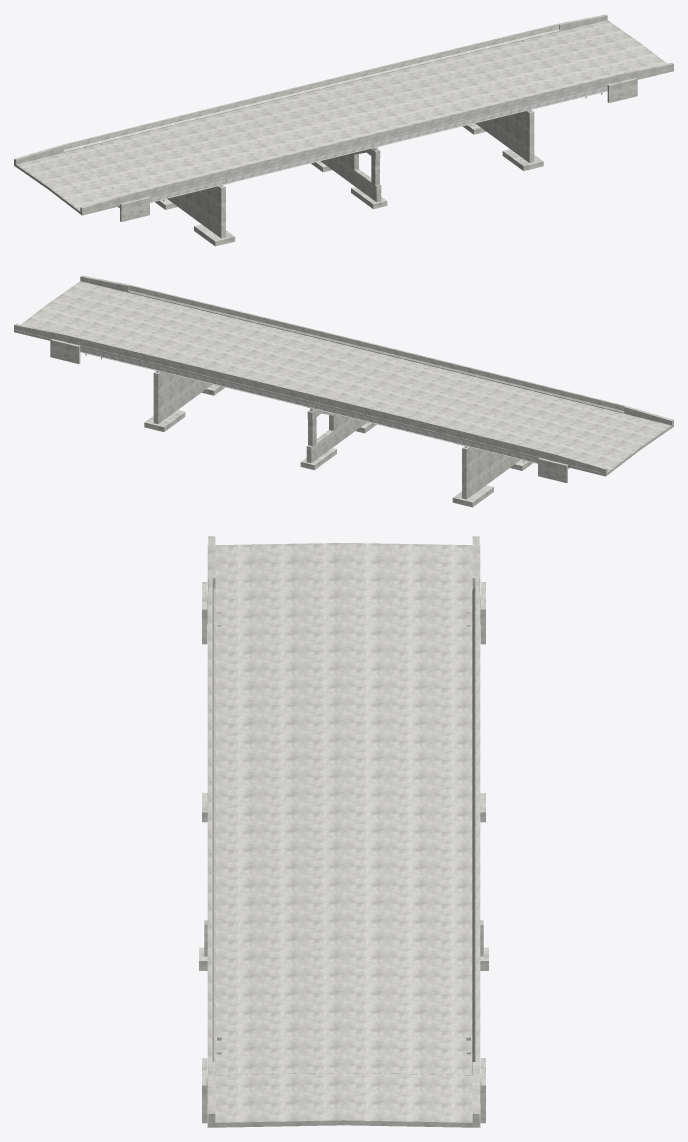
File: model_render.glb
The picture shows the model from 3 angles, top to bottom: view 1: azimuth 30°, elevation 25°; view 2: azimuth 150°, elevation 25°; view 3: azimuth 270°, elevation 25°; orthographic projection. The views are drawn at different scales.
Visible parts, largest first — view 1: overlay, approach_-1, approach_1, pier_4_widening, pier_2_widening, deck, rail_1_1, rail_1_0, rail_1_2, rail_1_3, rail_-1_3, rail_-1_0 (+18 smaller); view 2: overlay, approach_-1, approach_1, pier_4_widening, pier_2_widening, deck, rail_-1_1, rail_-1_0, rail_-1_2, rail_-1_3, rail_1_3, rail_1_0 (+18 smaller); view 3: overlay, approach_1, approach_-1, deck, rail_1_2, rail_-1_2, rail_1_1, rail_-1_1, rail_1_0, rail_-1_0, rail_1_3, rail_-1_3.
Part boxes in pixels (box(x1,y1,x2,y2)): overlay: box(64, 32, 617, 194); approach_-1: box(14, 152, 129, 215); approach_1: box(560, 20, 673, 80); pier_4_widening: box(475, 110, 534, 162); pier_2_widening: box(167, 185, 225, 238); deck: box(130, 80, 625, 201); rail_1_1: box(186, 84, 311, 121); rail_1_0: box(62, 114, 187, 152); rail_1_2: box(310, 53, 435, 91); rail_1_3: box(434, 24, 559, 61); rail_-1_3: box(501, 72, 625, 109); rail_-1_0: box(129, 163, 253, 200); overlay: box(70, 293, 623, 455); approach_-1: box(558, 413, 673, 476); approach_1: box(14, 281, 127, 341); pier_4_widening: box(153, 371, 212, 423); pier_2_widening: box(462, 446, 520, 499); deck: box(62, 341, 557, 462); rail_-1_1: box(376, 345, 501, 382); rail_-1_0: box(500, 375, 625, 413); rail_-1_2: box(252, 314, 377, 352); rail_-1_3: box(128, 285, 253, 322); rail_1_3: box(62, 333, 186, 370); rail_1_0: box(434, 424, 558, 461); overlay: box(215, 589, 472, 1075); approach_1: box(207, 1073, 480, 1127); approach_-1: box(207, 543, 480, 591); deck: box(207, 592, 480, 1074); rail_1_2: box(472, 819, 479, 951); rail_-1_2: box(208, 819, 215, 951); rail_1_1: box(472, 698, 479, 830); rail_-1_1: box(208, 698, 215, 830); rail_1_0: box(472, 578, 479, 709); rail_-1_0: box(208, 578, 215, 709); rail_1_3: box(472, 940, 479, 1074); rail_-1_3: box(208, 940, 215, 1074).
Bounding box in the file's own units: 76.91 × 9.01 × 16.33.
4 materials, 3 textured.
